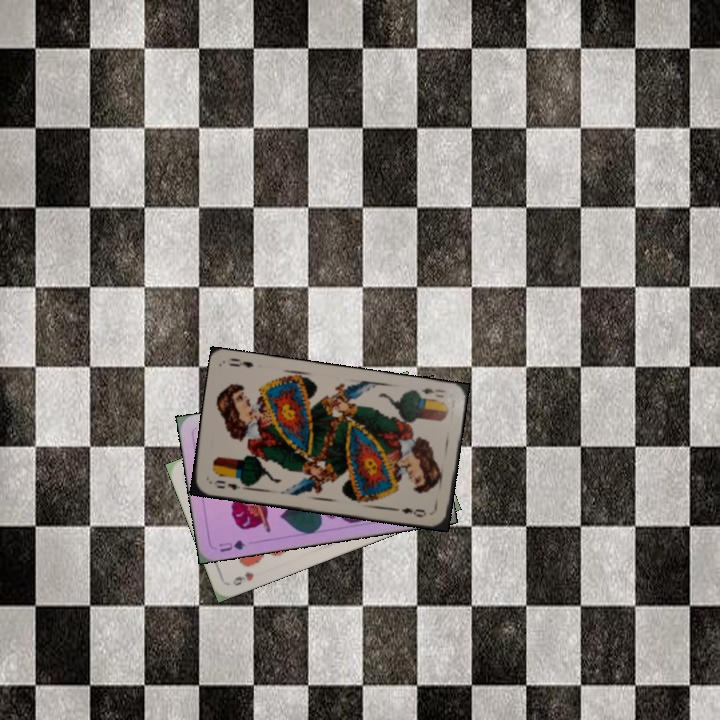EO: (210, 476, 248, 492), (417, 384, 448, 400)
GU: (215, 536, 248, 555)
H9: (229, 567, 257, 588)
